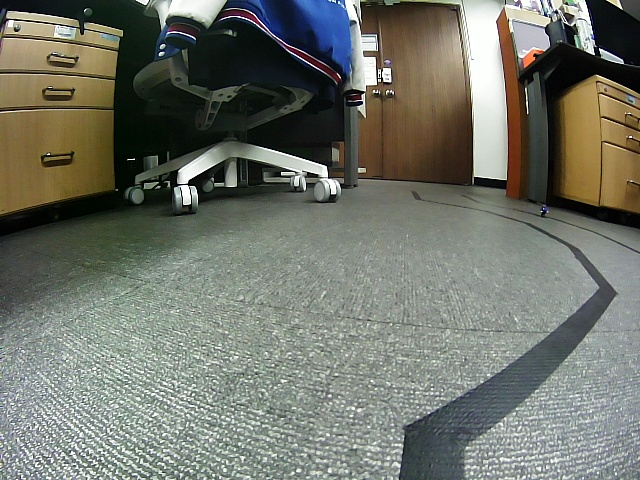person: (540, 203, 548, 217)
